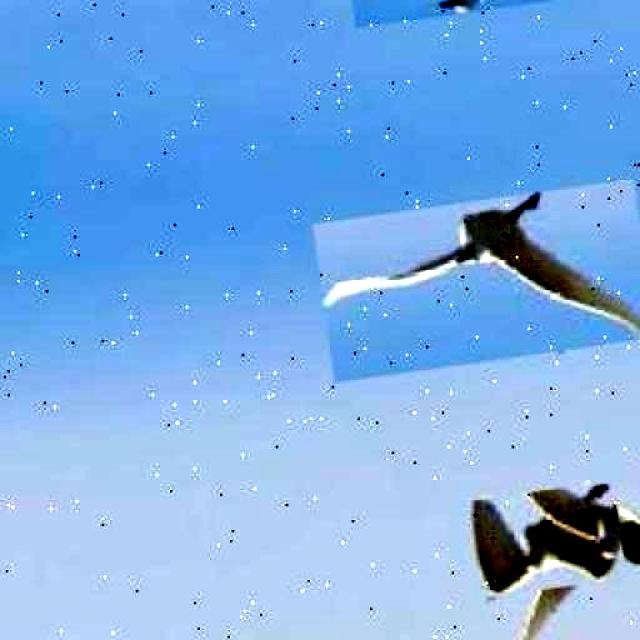airplane: (312, 180, 640, 384), (480, 484, 640, 640), (469, 480, 629, 598)
